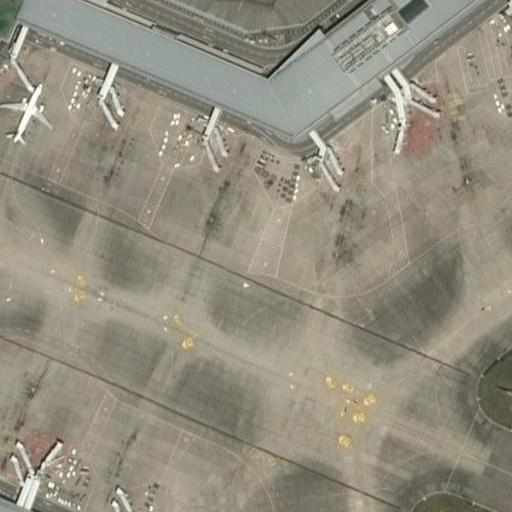Aircraft: (0, 79, 49, 145)
